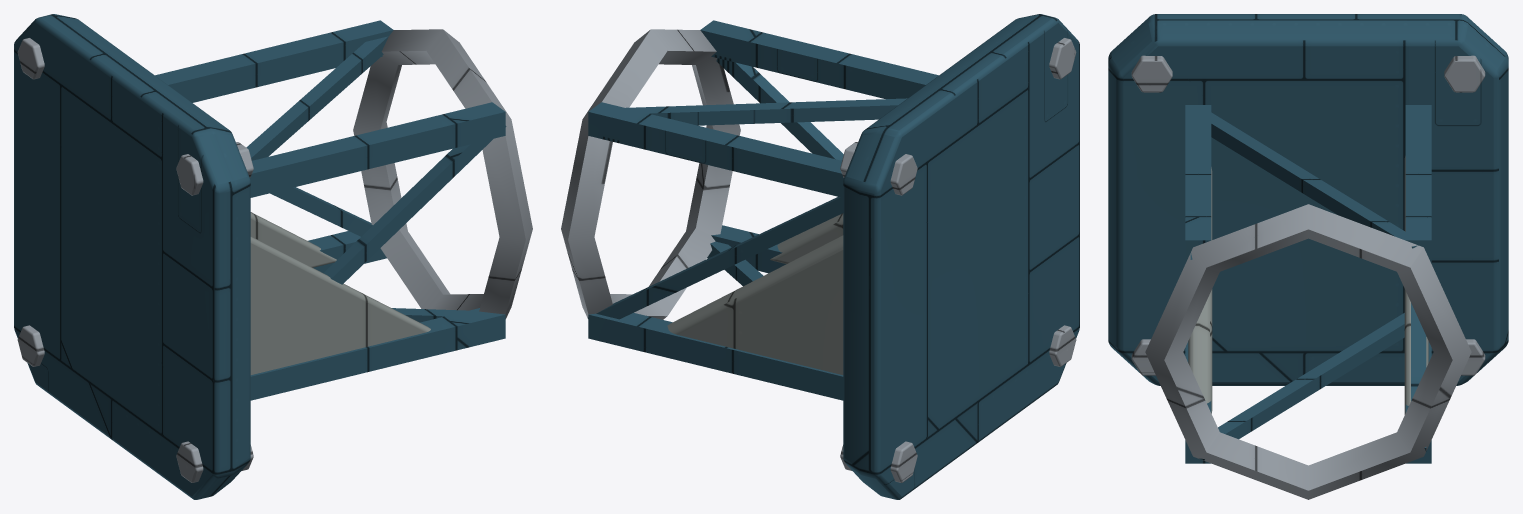
File: bulkhead_mount_lod2.glb
The picture shows the model from 3 angles, left to right: view 1: azimuth 30°, elevation 25°; view 2: azimuth 150°, elevation 25°; view 3: azimuth 270°, elevation 25°; orthographic projection.
Visible parts, largest first — view 1: LOD2_Armor, LOD2_BrushedMetal, LOD2_Hull; view 2: LOD2_Armor, LOD2_BrushedMetal, LOD2_Hull; view 3: LOD2_Armor, LOD2_BrushedMetal, LOD2_Hull.
Boxes of the visible parts, box(x1,y1,x2,y2) form: LOD2_Armor: box(14, 14, 506, 499); LOD2_BrushedMetal: box(17, 29, 532, 482); LOD2_Hull: box(250, 212, 430, 374); LOD2_Armor: box(587, 14, 1079, 499); LOD2_BrushedMetal: box(561, 29, 1076, 482); LOD2_Hull: box(667, 213, 843, 374); LOD2_Armor: box(1108, 14, 1508, 463); LOD2_BrushedMetal: box(1131, 55, 1485, 499); LOD2_Hull: box(1188, 155, 1428, 414).
Size of the model in its own units: 2 by 2 by 2.
Materials: 3 (3 with a texture image).
